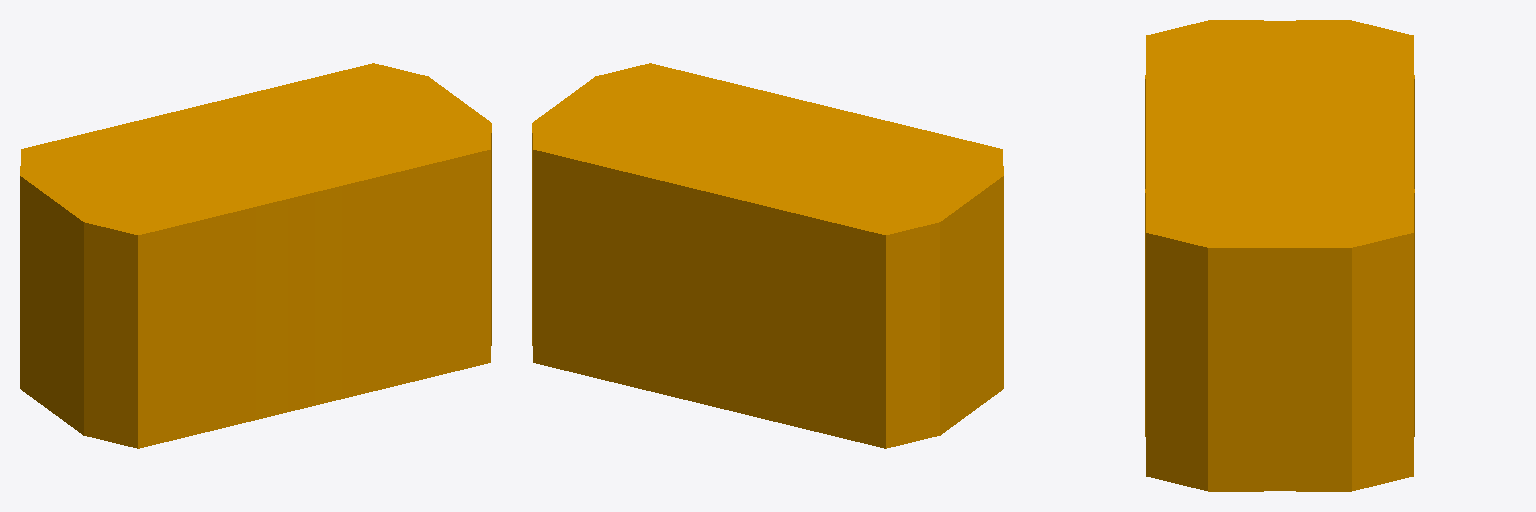
robot.urdf — rect:
<?xml version="1.0" ?>
<robot name="rect" version="1.0">
  <link name="base">
    <inertial>
      <origin xyz="0 0 0" rpy="0 0 0"/>
      <mass value="0.08706647300227612"/>
      <inertia ixx="1.5504659272251733e-05" ixy="-3.29778374751691e-40" ixz="-1.2657162573381497e-21" iyy="3.774999569324666e-05" iyz="-2.0663696023139664e-23" izz="3.7452090115585275e-05"/>
    </inertial>
    <visual>
      <origin xyz="0 0 0" rpy="0 0 0"/>
      <geometry>
        <mesh filename="meshes/rect.stl" scale="0.006 0.006 0.006"/>
      </geometry>
    </visual>
    <collision>
      <origin xyz="0 0 0" rpy="0 0 0"/>
      <geometry>
        <mesh filename="meshes/rect.stl" scale="0.006 0.006 0.006"/>
      </geometry>
    </collision>
  </link>
</robot>

--- What the picture shows (computed from the rendered views, not written in the file) ---
3 views of the same robot in one strip: view 1: azimuth 30°, elevation 25°; view 2: azimuth 150°, elevation 25°; view 3: azimuth 270°, elevation 25° (orthographic).
Robot: rect — 1 links, 0 joints (none); root link base; default pose: every joint at zero.
Links seen in each view (by area): view 1: base; view 2: base; view 3: base.
Link boxes in pixels (x1,y1,x2,y2): base: (20, 63, 491, 448); base: (532, 63, 1003, 448); base: (1145, 20, 1414, 491).
Bounding box of the posed robot: 0.066 × 0.033 × 0.033 m (x, y, z).
Meshes: 1 distinct files referenced, 1 mesh visuals loaded (1 binary STL).
